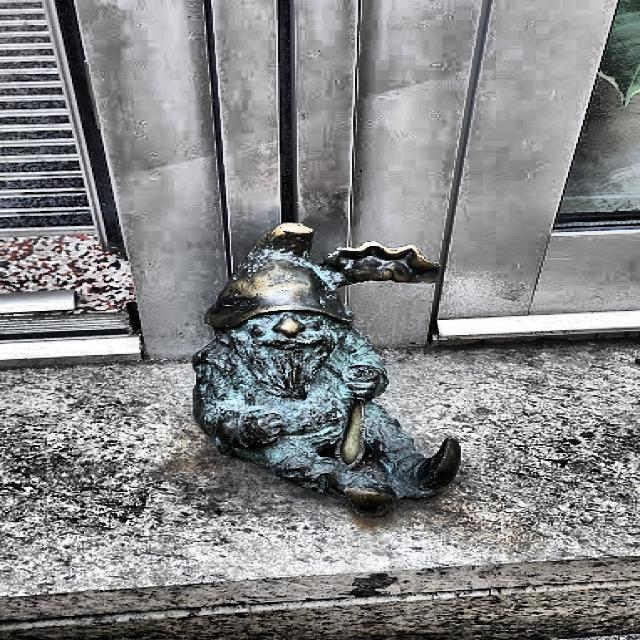Pieroznik: (191, 222, 461, 517)
